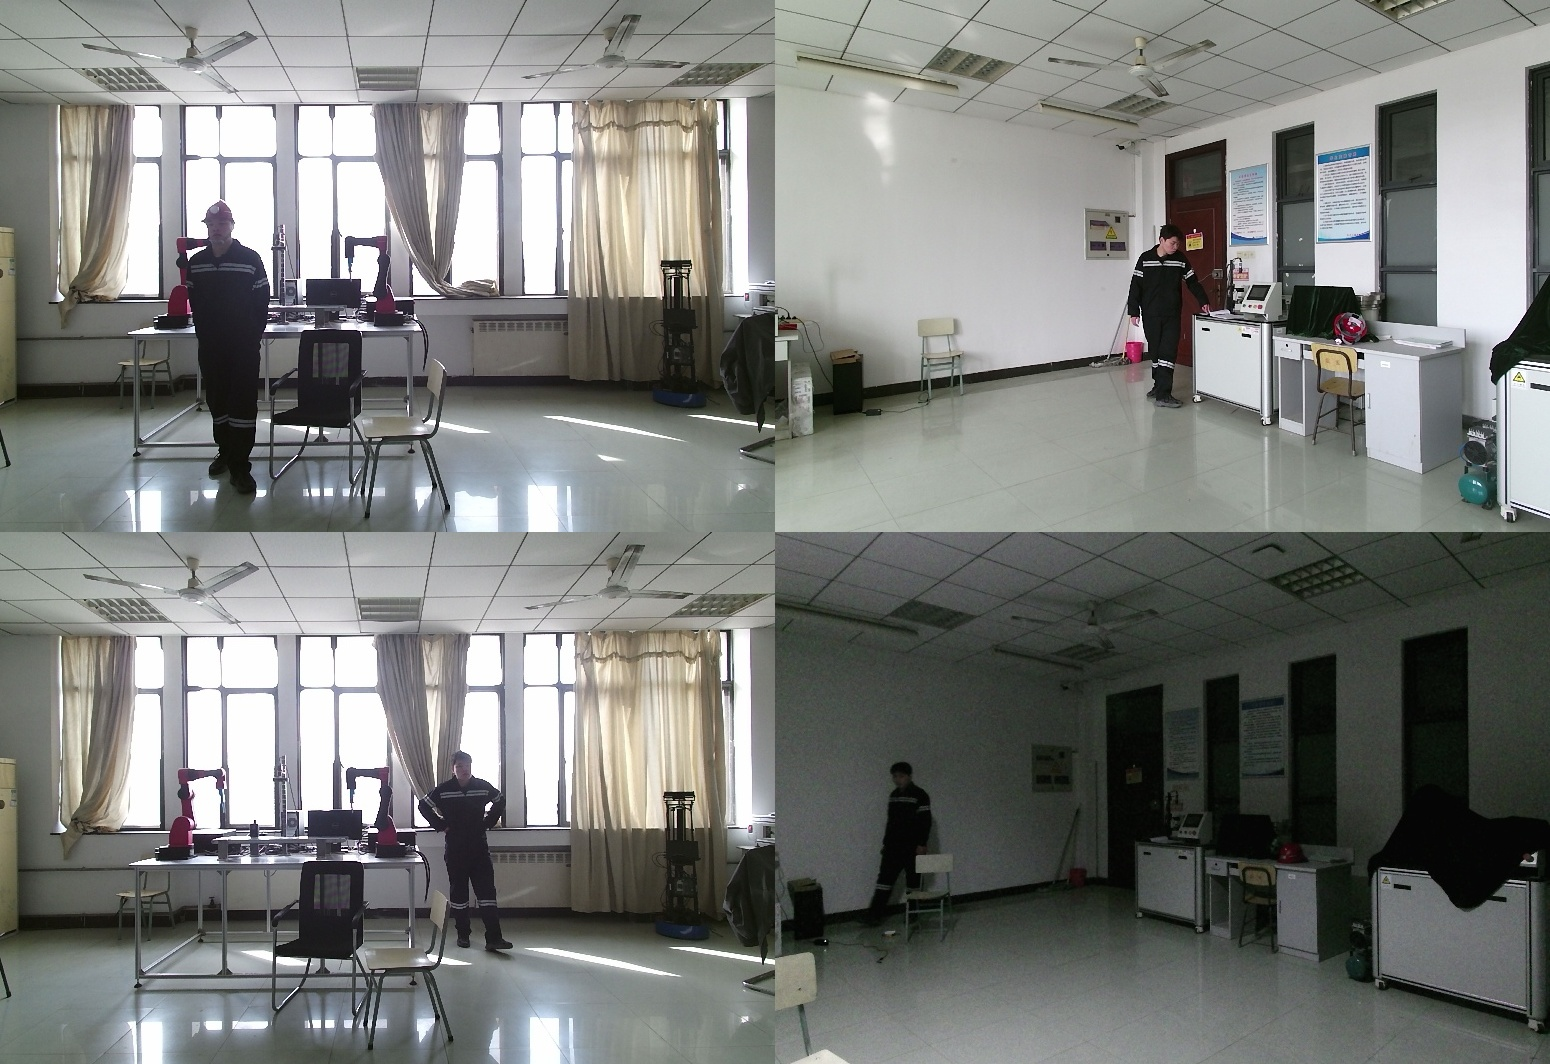person: (181, 202, 270, 486), (420, 751, 515, 957), (1129, 226, 1215, 410), (881, 763, 937, 923)
